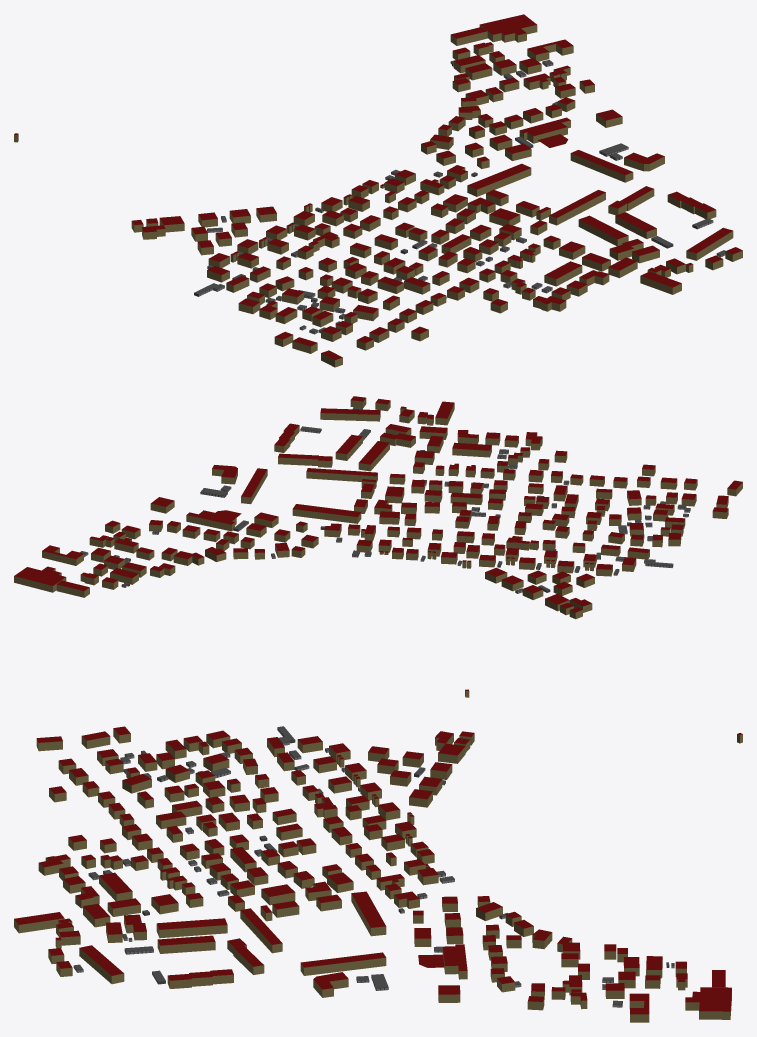
The model's file is Ingolstadt_Tile_6_6.obj.
3 renders of one model, top to bottom at view 1: azimuth 30°, elevation 25°; view 2: azimuth 150°, elevation 25°; view 3: azimuth 270°, elevation 25°, orthographic. The views are drawn at different scales.
Visible parts, largest first — view 1: Building Norma, Building219, Building258, Building253, Building171, Building Service Station Weigl, Building225, Building195, Building105, Building204, Building231, Building165; view 2: Building Norma, Building219, Building253, Building225, Building Service Station Weigl, Building171, Building105, Building165, Building258; view 3: Building258, Building Norma, Building171, Building195, Building219, Building204, Building225, Building253, Building Service Station Weigl, Building231, Building255, Building165 (+5 smaller).
Boxes of the visible parts, box(x1,y1,x2,y2) form: Building Norma: box(479, 14, 537, 42); Building219: box(467, 163, 531, 196); Building258: box(570, 150, 633, 182); Building253: box(549, 190, 605, 225); Building171: box(578, 215, 628, 246); Building Service Station Weigl: box(519, 117, 570, 143); Building225: box(686, 227, 733, 260); Building195: box(667, 191, 716, 219); Building105: box(527, 39, 573, 61); Building204: box(615, 212, 656, 238); Building231: box(640, 271, 681, 294); Building165: box(544, 261, 582, 286); Building Norma: box(14, 567, 66, 592); Building219: box(292, 504, 361, 523); Building253: box(306, 468, 377, 482); Building225: box(320, 408, 380, 421); Building Service Station Weigl: box(186, 510, 236, 531); Building171: box(358, 441, 389, 471); Building105: box(42, 545, 83, 565); Building165: box(452, 442, 491, 457); Building258: box(241, 468, 267, 504); Building258: box(300, 952, 386, 975); Building Norma: box(692, 987, 731, 1019); Building171: box(156, 918, 227, 938); Building195: box(167, 969, 233, 988); Building219: box(351, 891, 386, 936); Building204: box(157, 935, 215, 953); Building225: box(79, 945, 124, 984); Building253: box(240, 908, 282, 953); Building Service Station Weigl: box(442, 944, 467, 979); Building231: box(14, 912, 64, 933); Building255: box(313, 972, 348, 997); Building165: box(99, 872, 132, 901).
Bounding box in the file's own units: 566 × 7.5 × 594.
